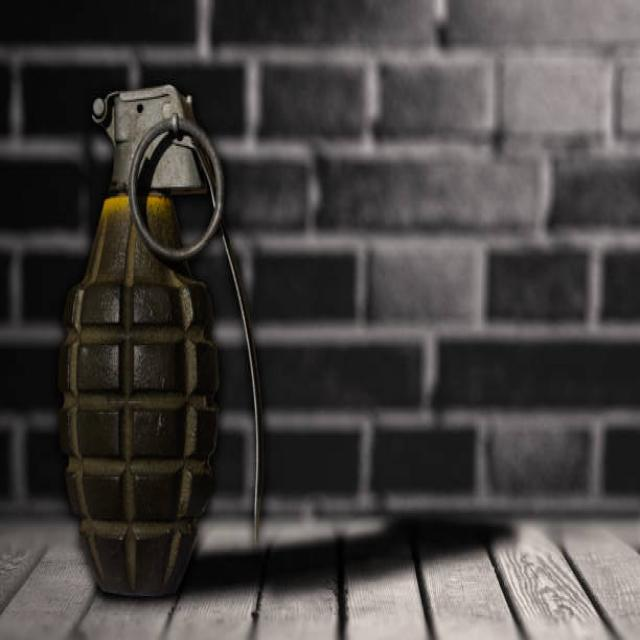grenade: (48, 75, 267, 603)
